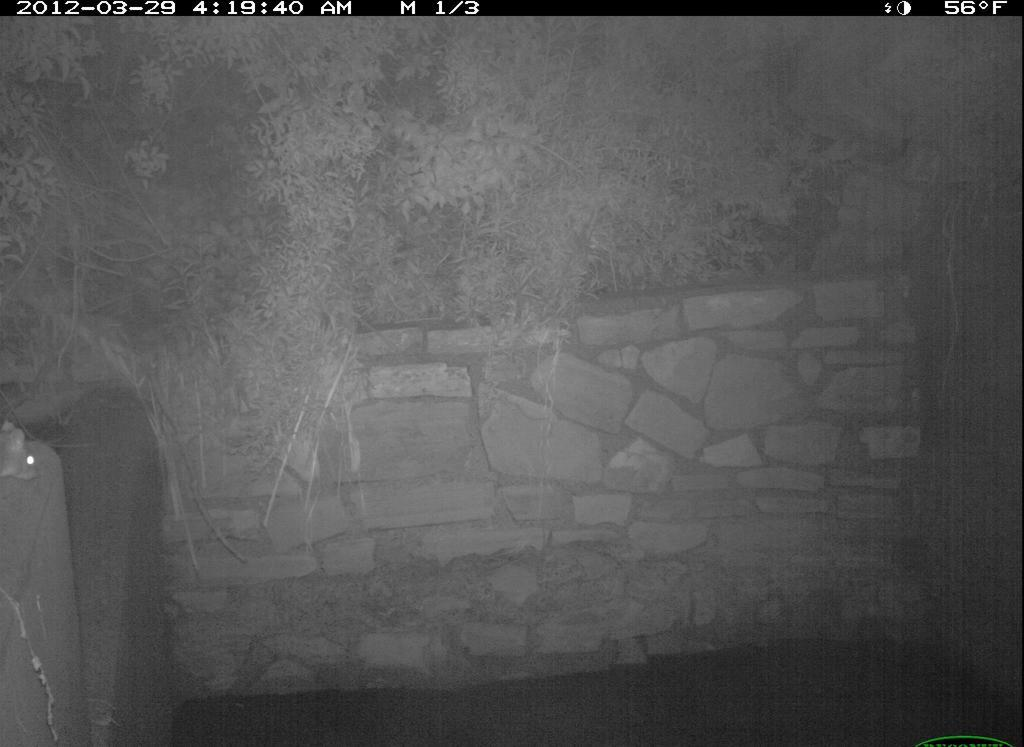rodent: (1, 420, 48, 501)
